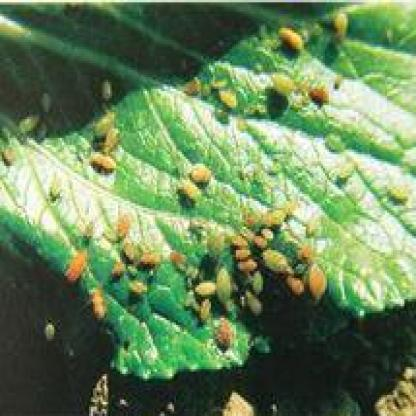aphid: (206, 203, 329, 315), (66, 217, 162, 311), (188, 71, 244, 111), (90, 115, 119, 174), (183, 160, 210, 199), (279, 20, 307, 52), (308, 80, 331, 108), (334, 4, 352, 38), (269, 73, 295, 94), (338, 152, 355, 184), (391, 180, 411, 204)
